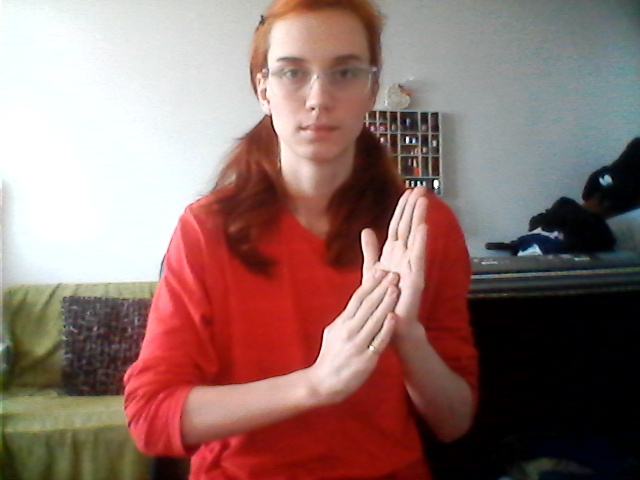m: (313, 183, 438, 407)
